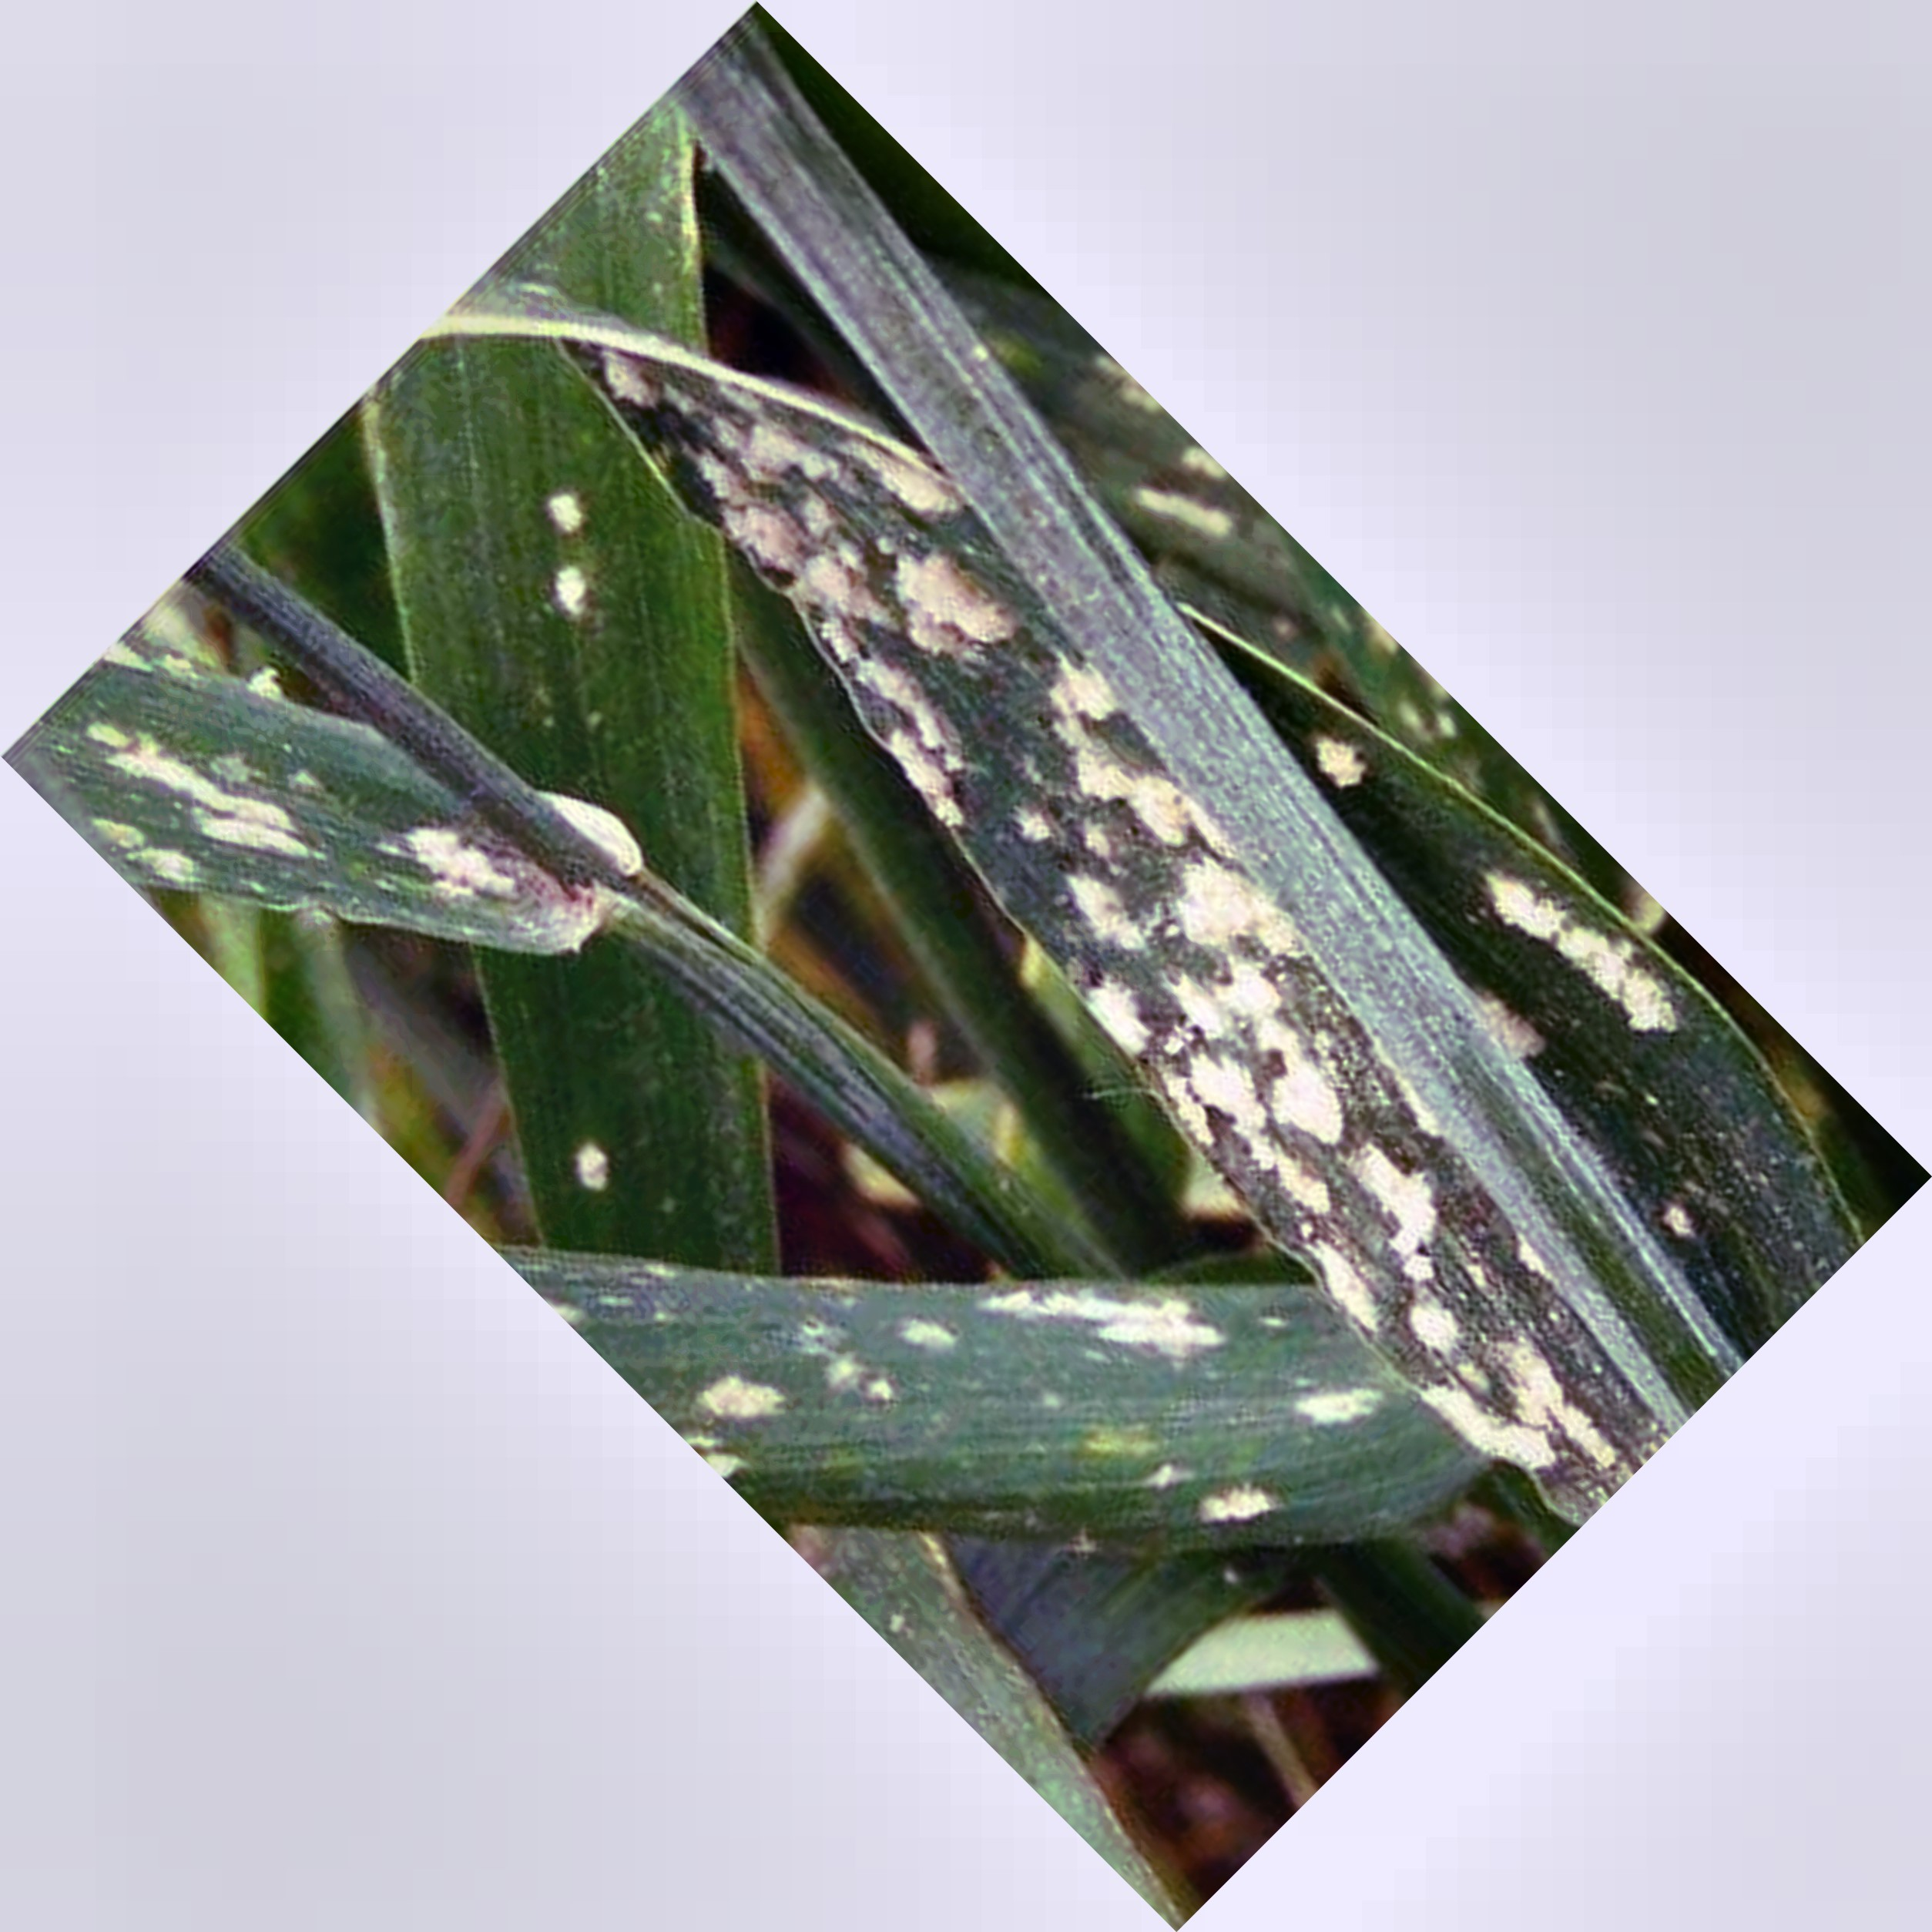Powdery Mildew: (702, 410, 1559, 1424)
